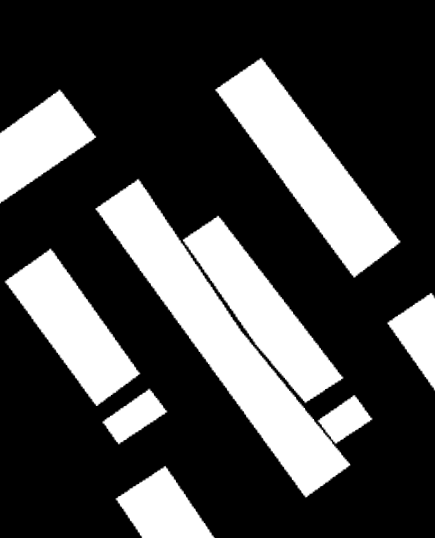parkingspot: (95, 179, 350, 497), (215, 58, 400, 278), (183, 216, 343, 403), (5, 249, 140, 406), (0, 90, 96, 203), (116, 466, 215, 538), (387, 293, 435, 390), (103, 389, 167, 444), (318, 395, 372, 444)
